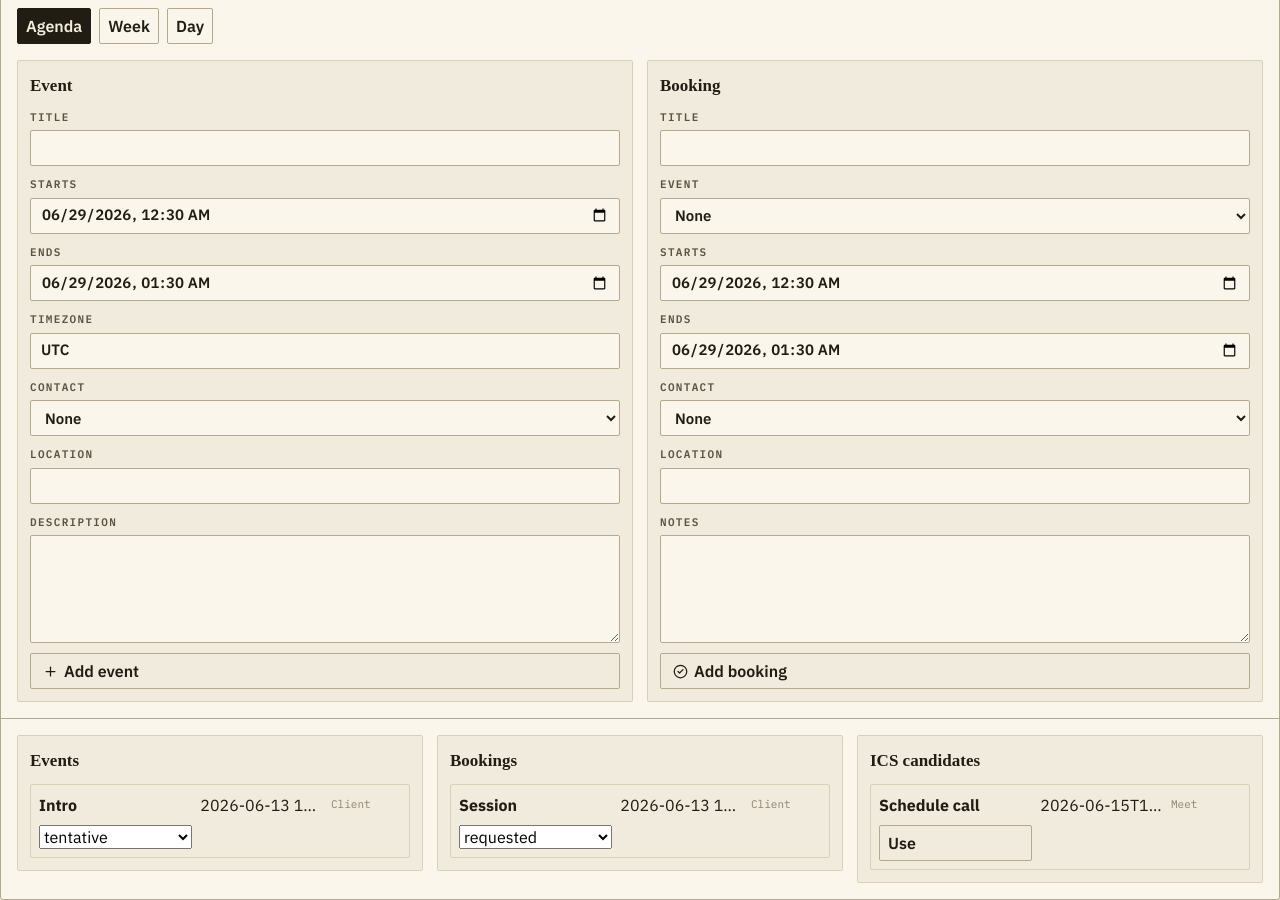
CalendarBookingView › prefills event draft from parsed ICS candidates
(page scrolled)
Click the button "Use".
click(956, 842)  # box [879, 824, 1032, 860]
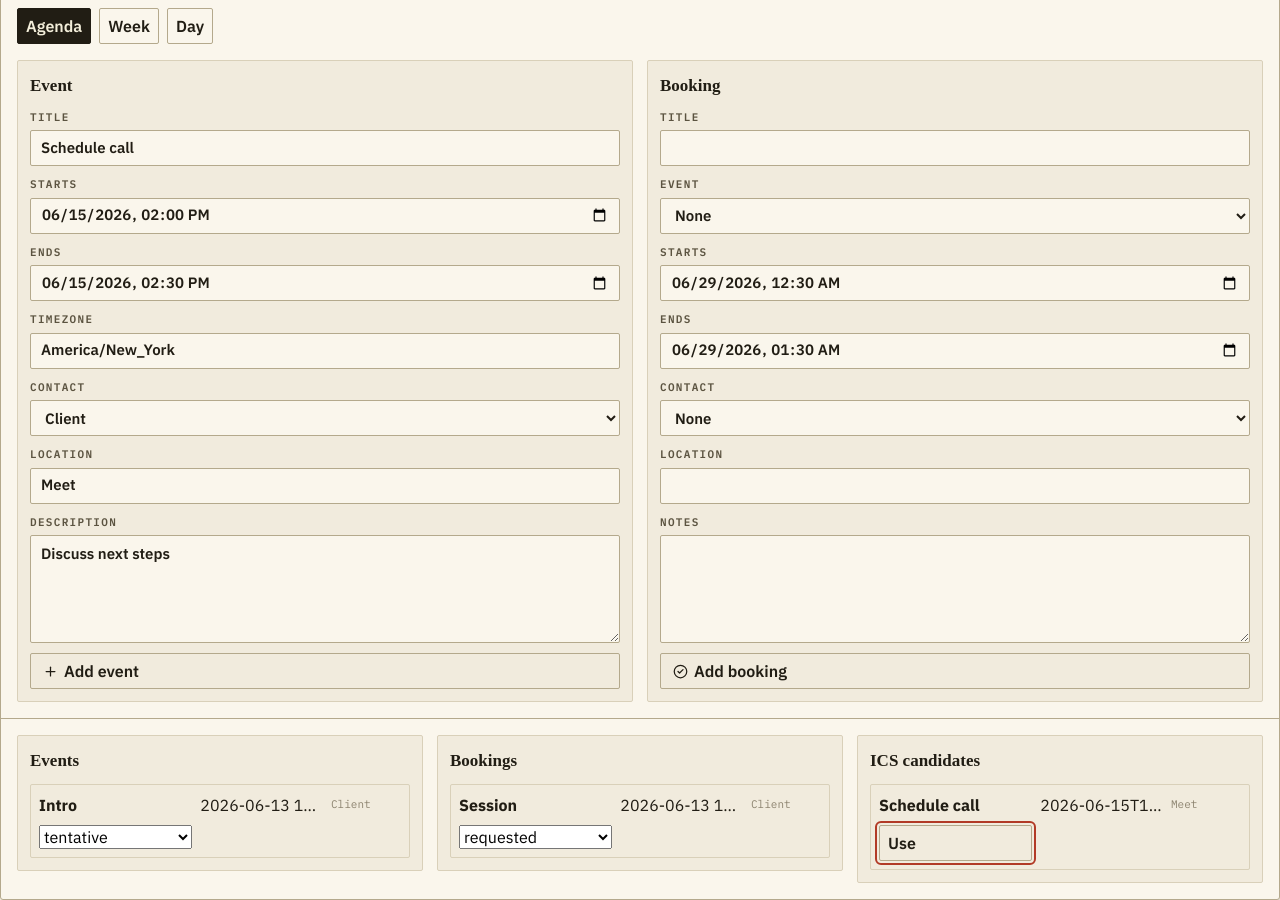
Result: the 1st field labelled "Title" holds "Schedule call" at [30, 130, 620, 166]
Result: the 1st field labelled "Starts" holds "2026-06-15T14:00" at [30, 198, 620, 234]
Result: the 1st field labelled "Ends" holds "2026-06-15T14:30" at [30, 265, 620, 301]
